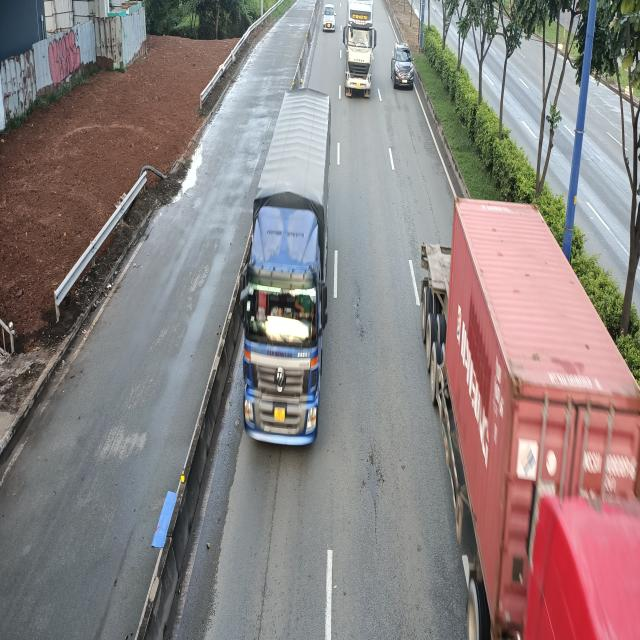car: (391, 42, 414, 90)
container: (420, 204, 640, 640), (343, 2, 376, 99)
truck: (234, 89, 332, 454)
